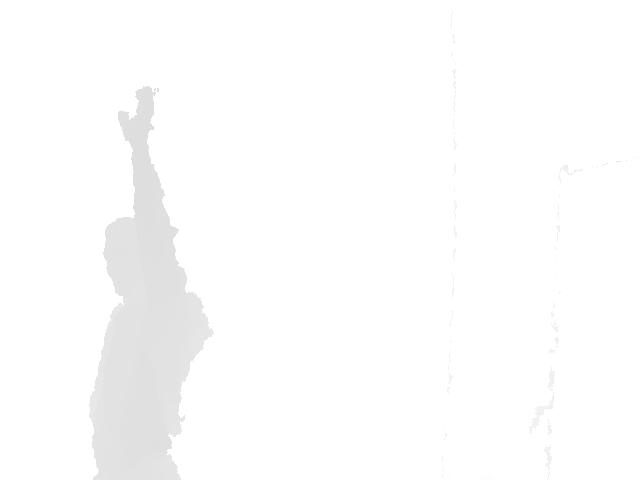hand: (115, 86, 156, 144)
head: (102, 216, 163, 298)
person: (87, 86, 216, 480)
